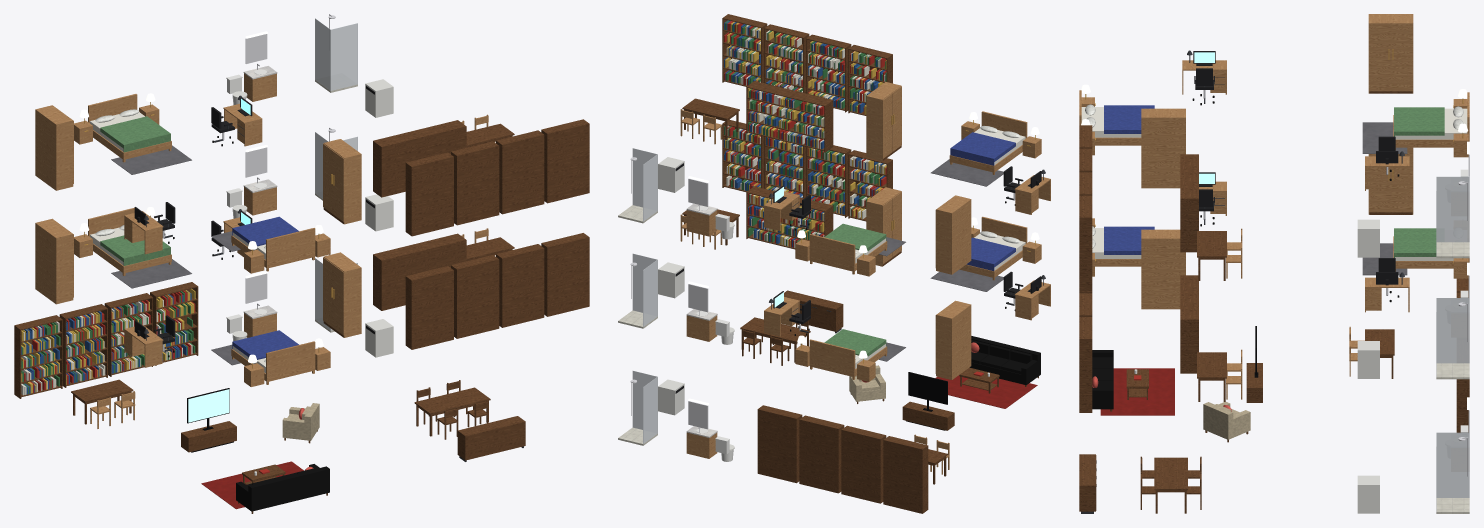
File: i_gothic_manor.gltf
3 views of the same model, side by side, from view 1: azimuth 30°, elevation 25°; view 2: azimuth 150°, elevation 25°; view 3: azimuth 270°, elevation 25° (orthographic). The views are drawn at different scales.
Visible parts, largest first — view 1: I_gothic_manor; view 2: I_gothic_manor; view 3: I_gothic_manor.
Boxes of the visible parts, x1=… form: I_gothic_manor: x1=14, y1=14, x2=589, y2=513; I_gothic_manor: x1=618, y1=14, x2=1050, y2=513; I_gothic_manor: x1=1079, y1=14, x2=1469, y2=513.
Bounding box in the file's own units: 13.2 × 9.8 × 10.52.
30 materials, 12 textured.
